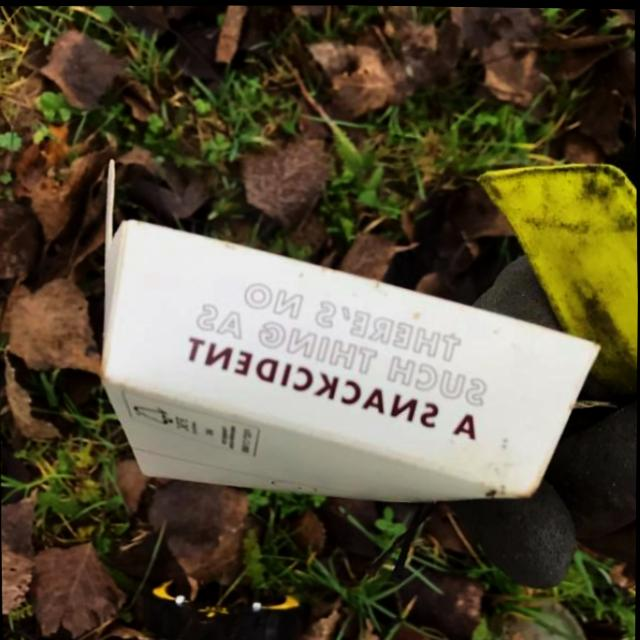Paper: (92, 145, 611, 516)
